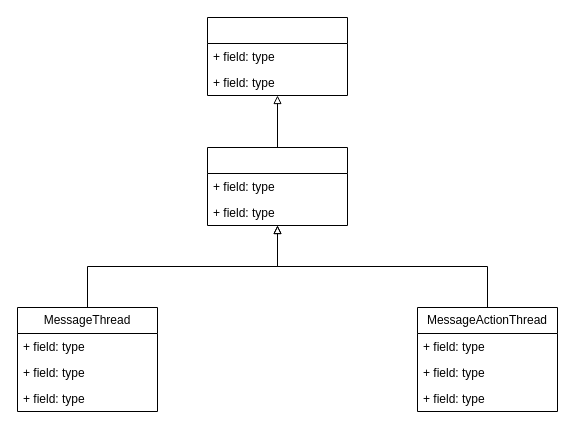
Image size: 575x432. Some labels were removed from this diagram. The shapes that lost their labels are listed below. From the top down, each one's box as (x1, y1, x2, y2) in pixels, then its label:
(206, 16, 348, 96): HandlerThread
(206, 146, 348, 226): TaskThread
